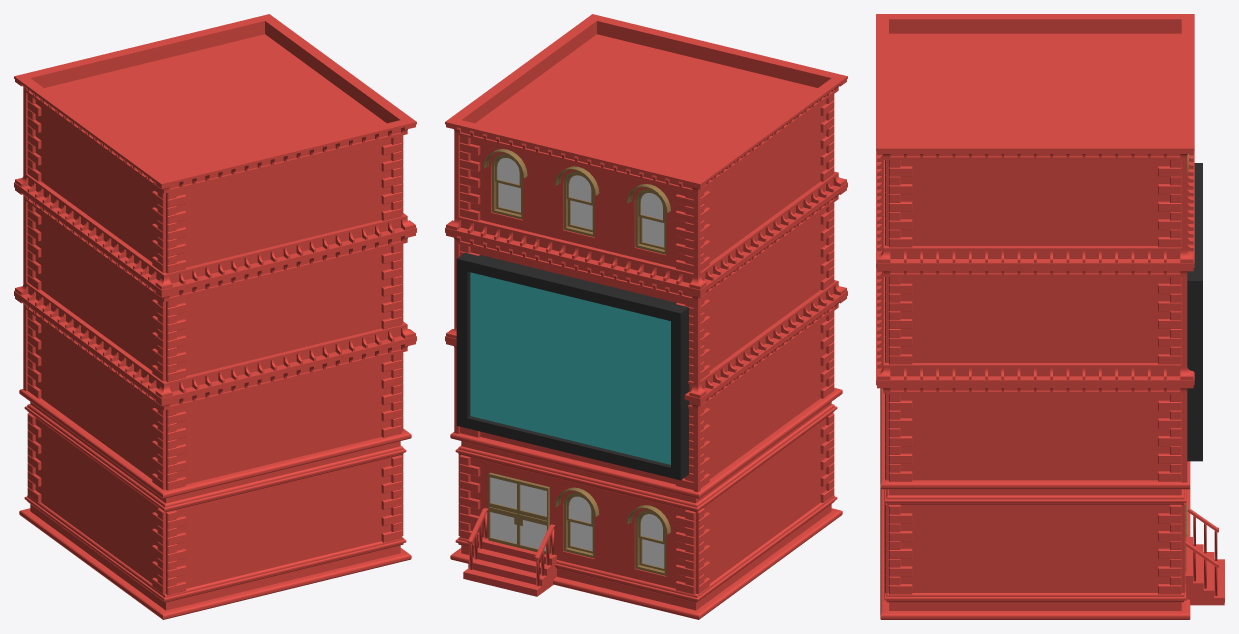
Rendered from Prop_Building_1.fbx.
The picture shows the model from 3 angles, left to right: view 1: azimuth 30°, elevation 25°; view 2: azimuth 150°, elevation 25°; view 3: azimuth 270°, elevation 25°; orthographic projection. The views are drawn at different scales.
Visible parts, largest first — view 1: Cornice_LightGray_V2.013; view 2: Cornice_LightGray_V2.013, PropBuilding3_Billboard.002, DoubleDoor, BrickWallLight_Window_V1_1.130, BrickWallThin_2_B.030; view 3: Cornice_LightGray_V2.013, PropBuilding3_Billboard.002, BrickWallLight_Window_V1_1.130, BrickWallThin_2_B.030.
Boxes of the visible parts, x1,y1,x2,y2 form: Cornice_LightGray_V2.013: (14,14,416,619); Cornice_LightGray_V2.013: (445,14,847,619); PropBuilding3_Billboard.002: (456,252,689,480); DoubleDoor: (488,472,549,554); BrickWallLight_Window_V1_1.130: (463,537,556,596); BrickWallThin_2_B.030: (467,507,555,586); Cornice_LightGray_V2.013: (876,14,1194,619); PropBuilding3_Billboard.002: (1187,163,1202,461); BrickWallLight_Window_V1_1.130: (1185,537,1224,605); BrickWallThin_2_B.030: (1185,507,1218,595).
Size of the model in its own units: 653 by 1072 by 715.
12 materials, 1 textured.
